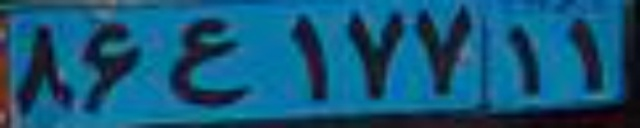1: (286, 13, 328, 99), (565, 19, 606, 90), (505, 25, 539, 93)
6: (80, 22, 147, 111)
7: (413, 3, 478, 98), (342, 9, 409, 99)
8: (13, 24, 74, 113)
ain: (164, 18, 257, 104)
